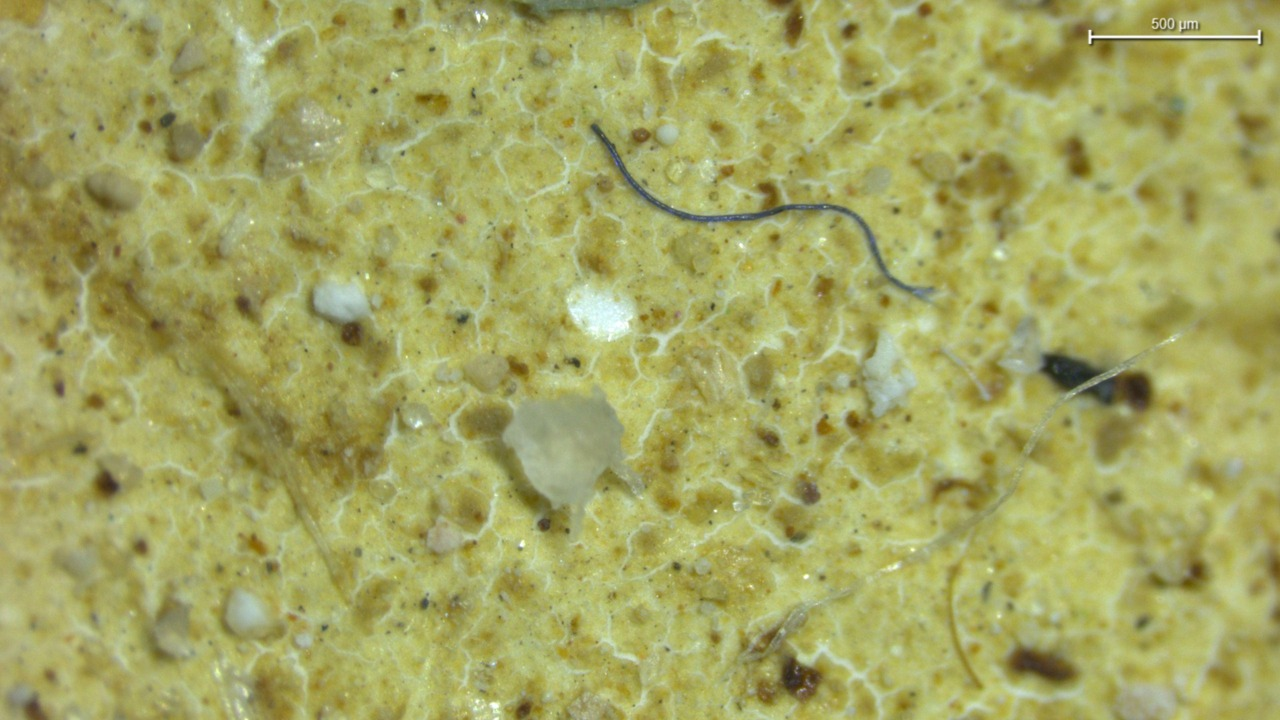microplastic_fragment: (502, 387, 643, 540), (862, 331, 918, 417), (224, 589, 282, 639), (313, 281, 372, 324)
